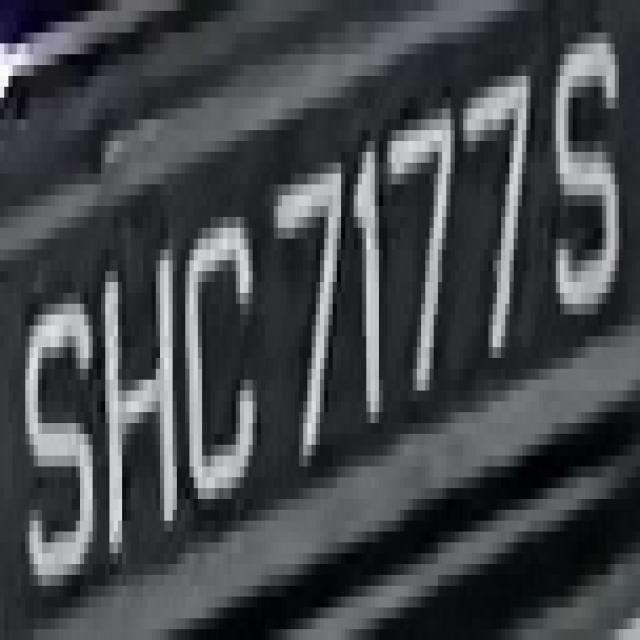1: (341, 130, 404, 456)
7: (455, 54, 543, 380), (253, 152, 345, 455), (388, 87, 468, 412)
C: (173, 184, 265, 532)
H: (97, 228, 189, 575)
S: (17, 260, 101, 575), (543, 54, 632, 326)
